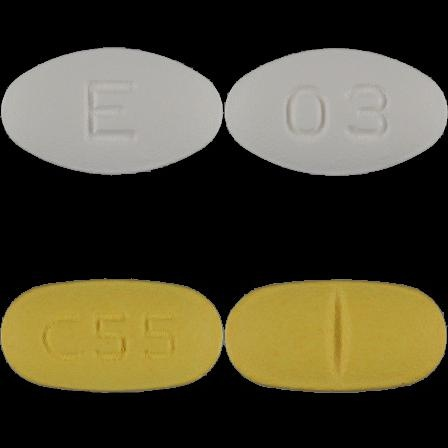65862-144: (0, 0, 224, 224)
